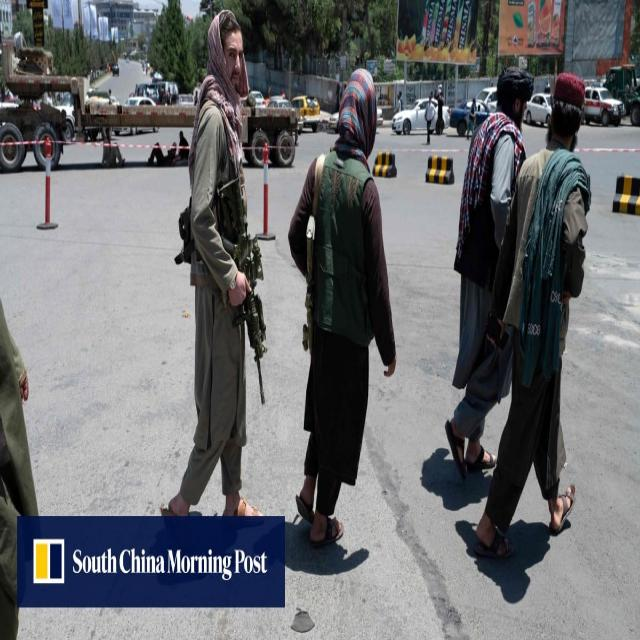Militant: (283, 56, 394, 578), (478, 74, 582, 576), (439, 54, 541, 500), (182, 0, 260, 549)
